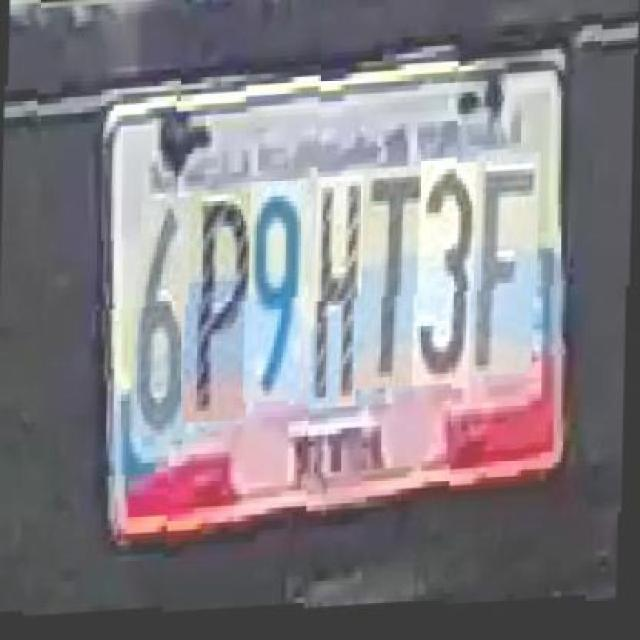3: (414, 152, 474, 382)
6: (136, 199, 192, 439)
9: (244, 178, 304, 400)
f: (470, 144, 538, 368)
h: (310, 169, 362, 403)
p: (185, 185, 252, 421)
t: (358, 161, 425, 384)
